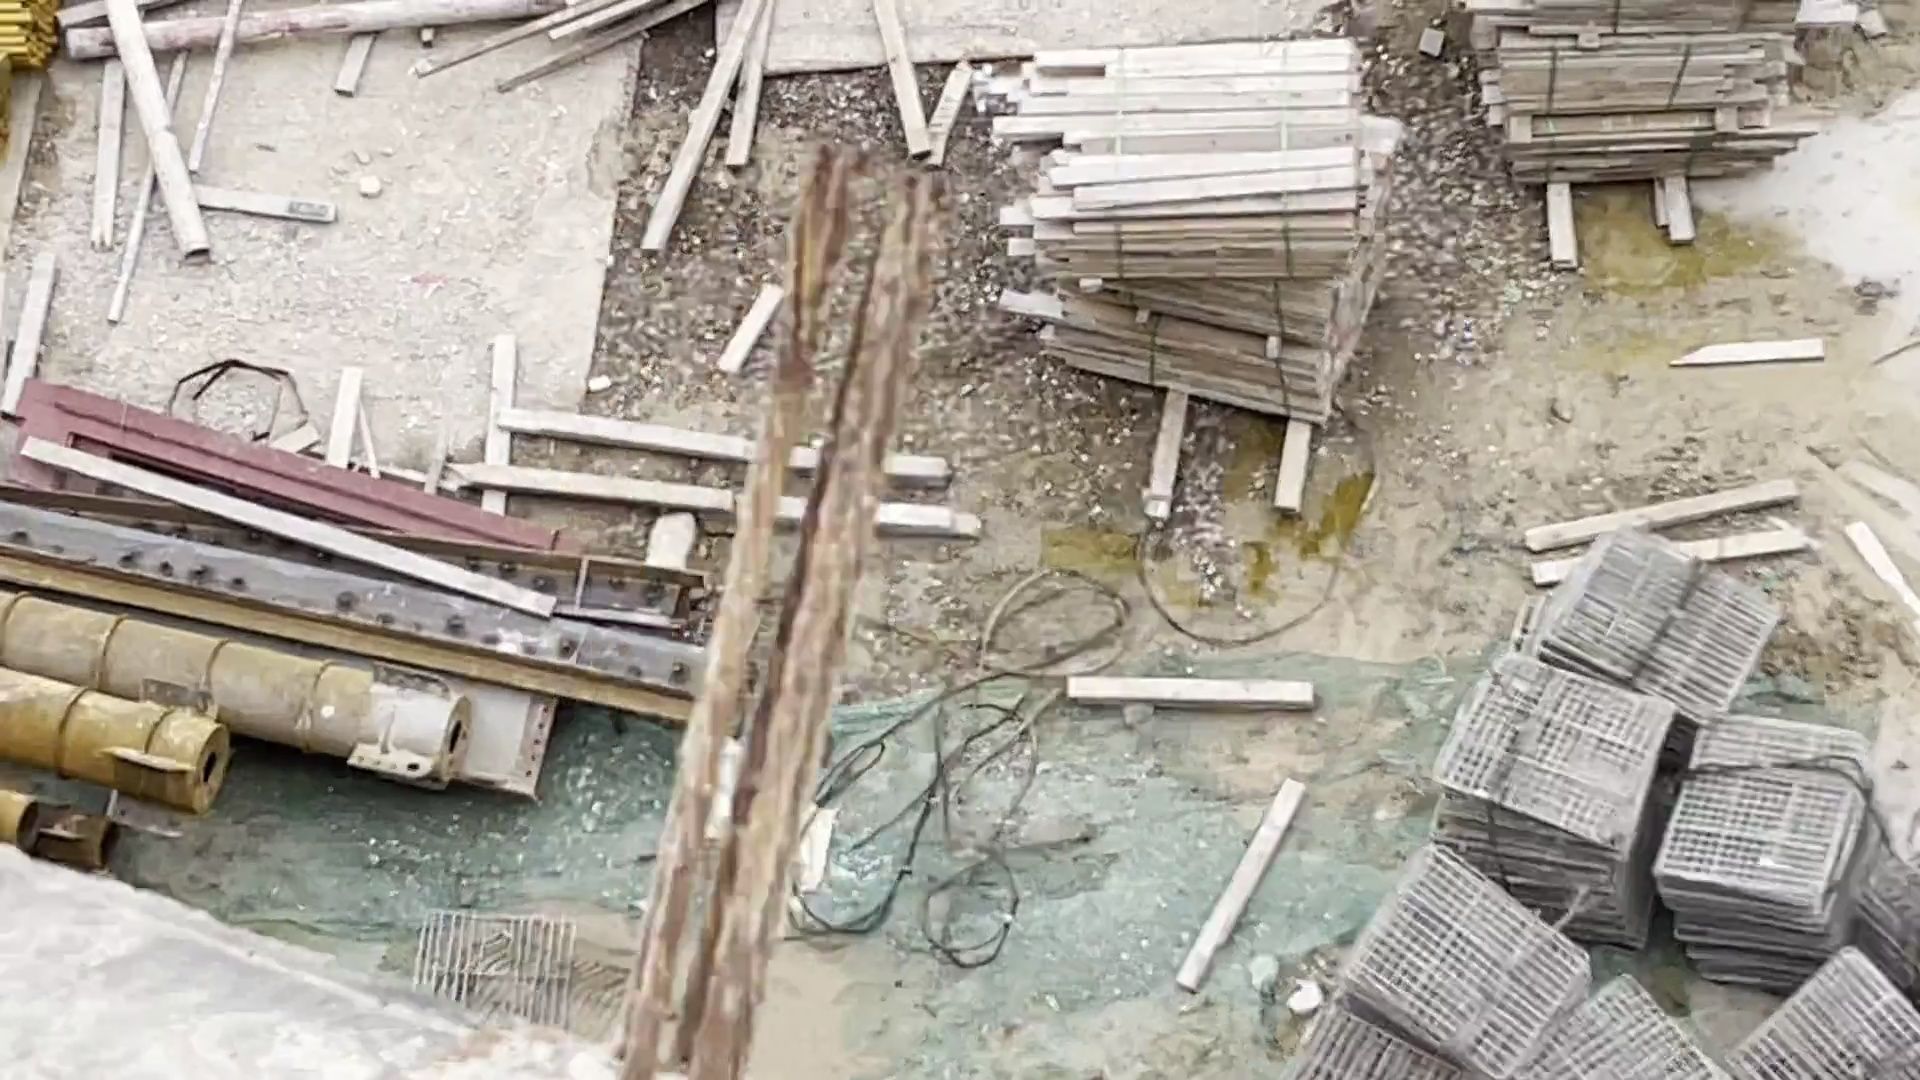wood: (1029, 69, 1345, 418), (1462, 7, 1782, 185)
